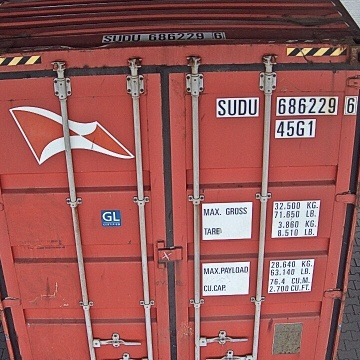serial_id: (217, 97, 356, 115)
